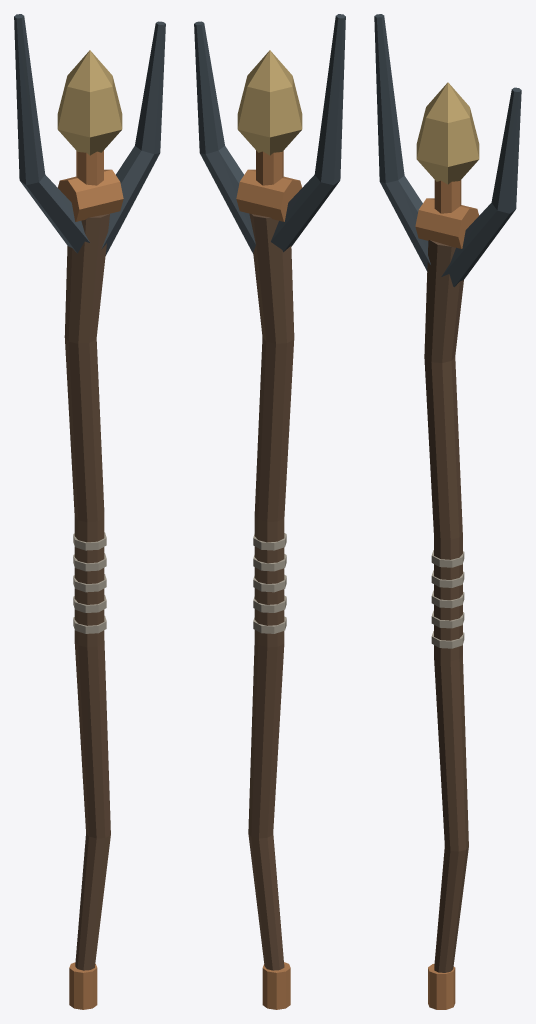
The model's file is AEW_Staff_StormFork.fbx.
3 renders of one model, left to right at view 1: azimuth 30°, elevation 25°; view 2: azimuth 150°, elevation 25°; view 3: azimuth 330°, elevation 25°, orthographic. The views are drawn at different scales.
Visible parts, largest first — view 1: AEW_Staff_StormFork; view 2: AEW_Staff_StormFork; view 3: AEW_Staff_StormFork.
Boxes of the visible parts, x1,y1,x2,y2 form: AEW_Staff_StormFork: [14, 14, 165, 1009]; AEW_Staff_StormFork: [194, 14, 345, 1009]; AEW_Staff_StormFork: [374, 14, 521, 1009].
Size of the model in its own units: 0.3372 by 2.17 by 0.1264.
